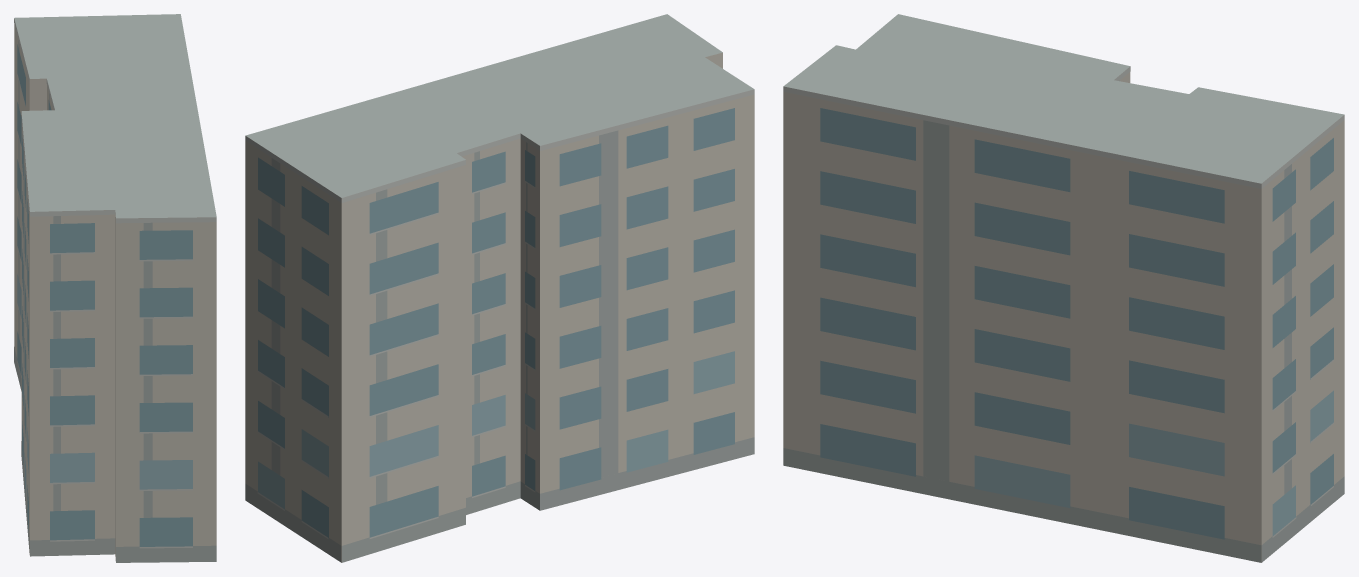
The model's file is survey-upis-32524600.glb.
3 renders of one model, left to right at view 1: azimuth 30°, elevation 25°; view 2: azimuth 150°, elevation 25°; view 3: azimuth 270°, elevation 25°, orthographic. The views are drawn at different scales.
Visible parts, largest first — view 1: survey-upis-32524600.tmp; view 2: survey-upis-32524600.tmp; view 3: survey-upis-32524600.tmp.
Boxes of the visible parts, <box> form: survey-upis-32524600.tmp: <box>14,14,216,562</box>; survey-upis-32524600.tmp: <box>245,14,754,562</box>; survey-upis-32524600.tmp: <box>783,14,1344,562</box>.
Size of the model in its own units: 16.71 by 17.4 by 23.35.
